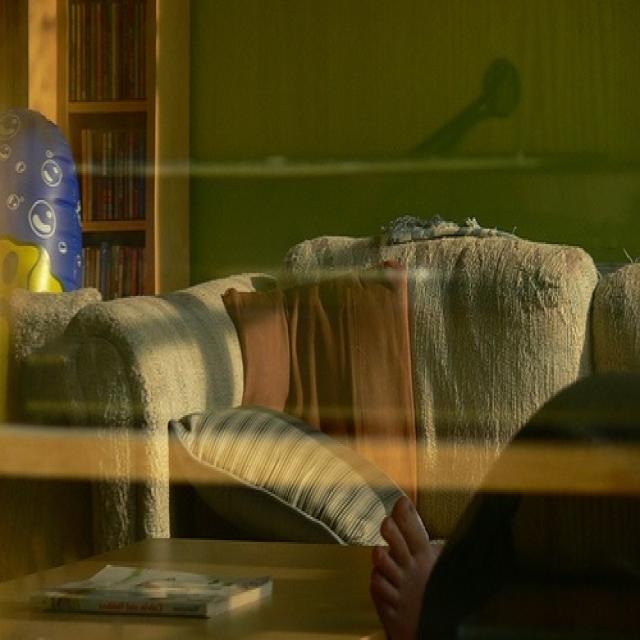sofa: (73, 217, 639, 556)
